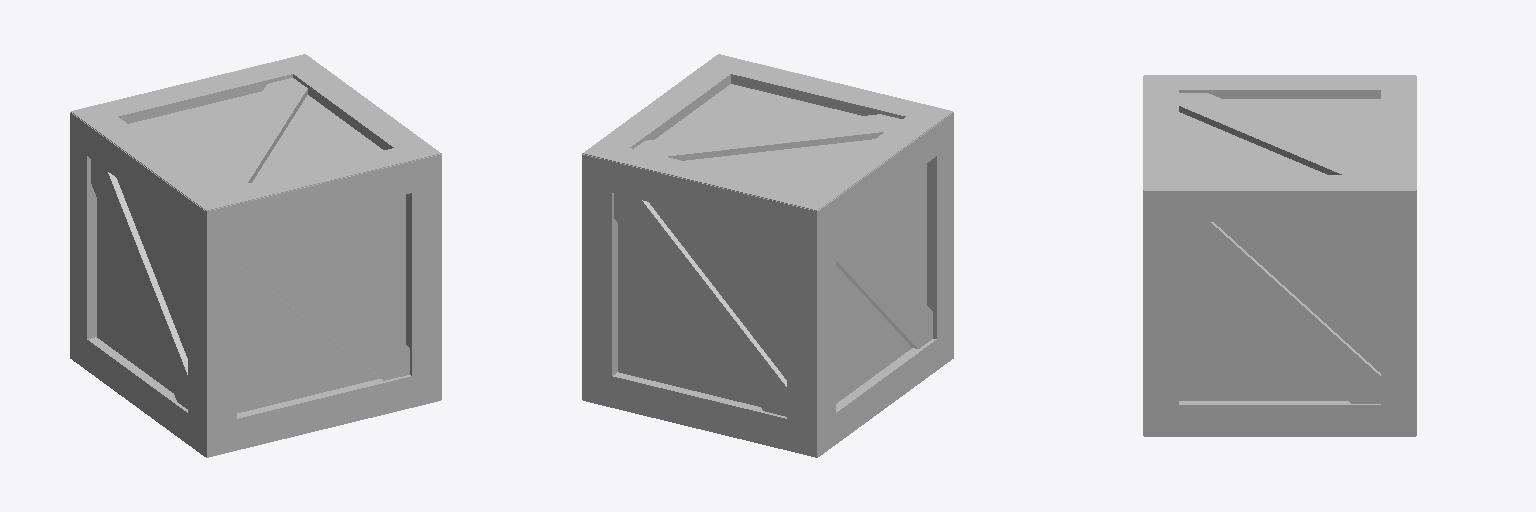
Rendered from scale.obj.
3 views of the same model, side by side, from view 1: azimuth 30°, elevation 25°; view 2: azimuth 150°, elevation 25°; view 3: azimuth 270°, elevation 25° (orthographic).
Parts seen in each view (by area): view 1: Crate1_Plane.001; view 2: Crate1_Plane.001; view 3: Crate1_Plane.001.
Part boxes in pixels (bbox=[...]): Crate1_Plane.001: bbox=[70, 54, 441, 457]; Crate1_Plane.001: bbox=[582, 54, 953, 457]; Crate1_Plane.001: bbox=[1143, 75, 1416, 436].
Size of the model in its own units: 1.01 by 1.01 by 1.01.